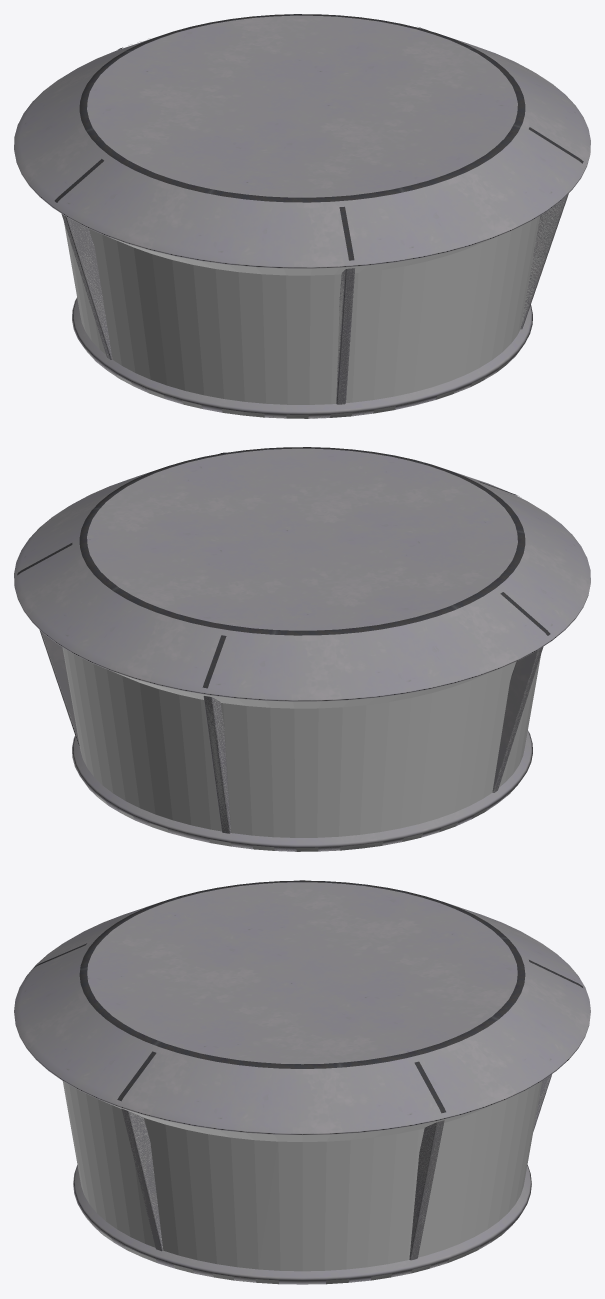
Rendered from SM_Building05.fbx.
The picture shows the model from 3 angles, top to bottom: view 1: azimuth 30°, elevation 25°; view 2: azimuth 150°, elevation 25°; view 3: azimuth 270°, elevation 25°; orthographic projection.
Parts seen in each view (by area): view 1: SM_Building05, SM_Building05_ConvexHulls; view 2: SM_Building05, SM_Building05_ConvexHulls; view 3: SM_Building05, SM_Building05_ConvexHulls.
Part boxes in pixels (left/top/right/bottom): SM_Building05: left=14, top=14, right=590, bottom=418; SM_Building05_ConvexHulls: left=64, top=196, right=565, bottom=418; SM_Building05: left=14, top=447, right=590, bottom=851; SM_Building05_ConvexHulls: left=41, top=631, right=541, bottom=851; SM_Building05: left=14, top=880, right=590, bottom=1284; SM_Building05_ConvexHulls: left=62, top=1078, right=549, bottom=1284.
Bounding box in the file's own units: 1200 × 1200 × 496.
Materials: 4 (3 with a texture image).
